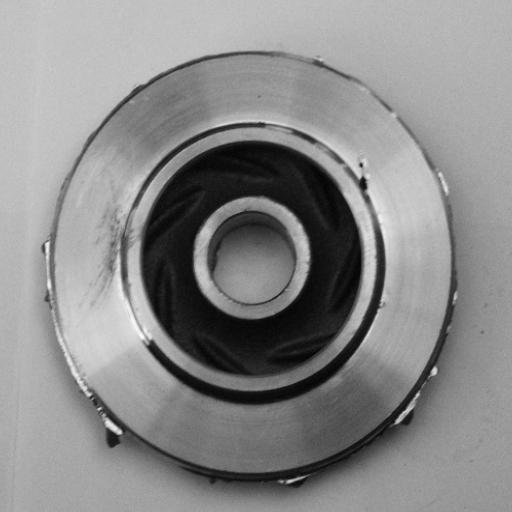casting_with_burr: (42, 47, 462, 495)
crack: (348, 149, 382, 203)
scratch: (127, 296, 165, 357)
stain: (83, 181, 148, 310)
